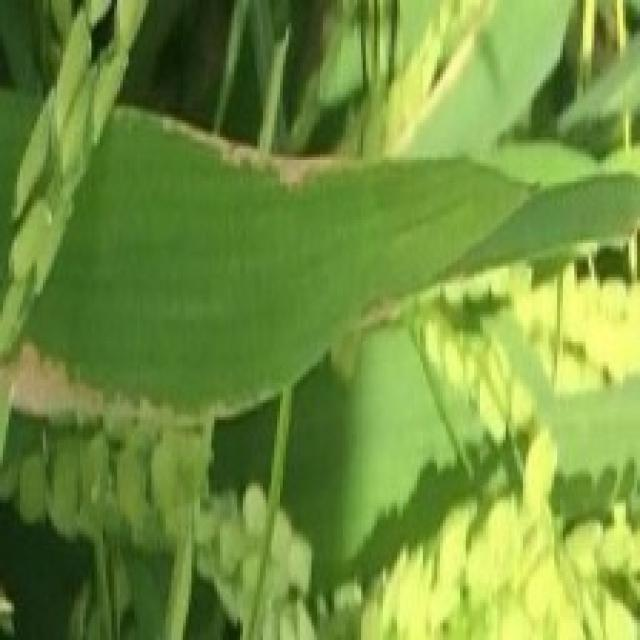Rice___Bacterial_Leaf_Blight: (0, 91, 637, 434)
